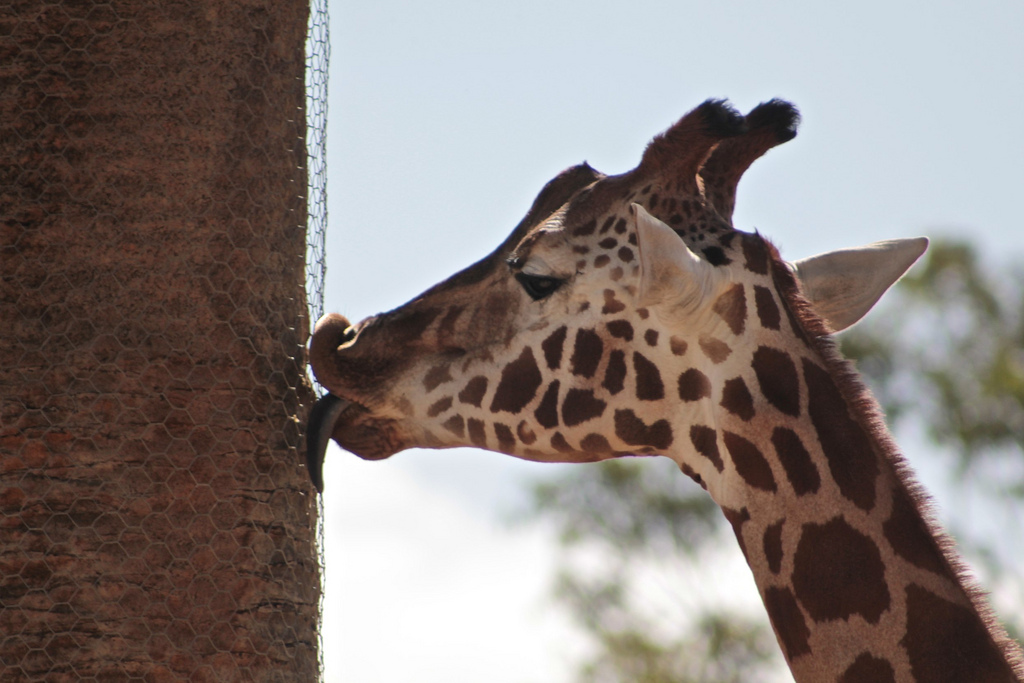giraffe: (273, 50, 1002, 662)
